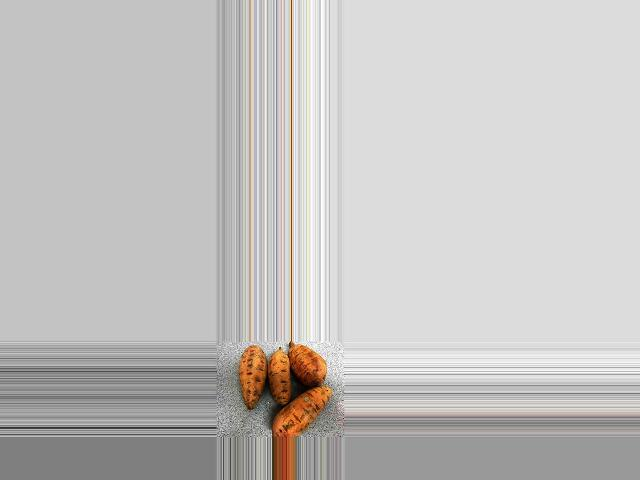sweet_potato: (265, 386, 337, 437)
